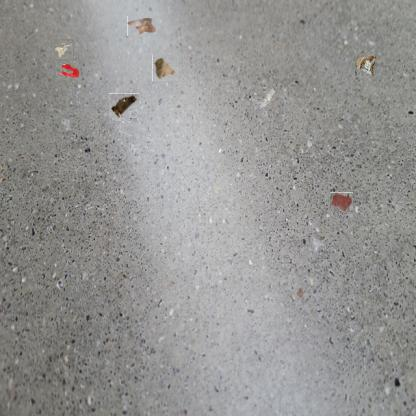dirty: (111, 92, 138, 120), (152, 56, 178, 81), (127, 16, 158, 36), (252, 87, 276, 111), (356, 54, 376, 76), (55, 40, 74, 59)
liquid: (329, 192, 353, 211), (56, 62, 80, 78)
